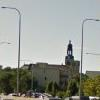Statue: (52, 31, 78, 68)
